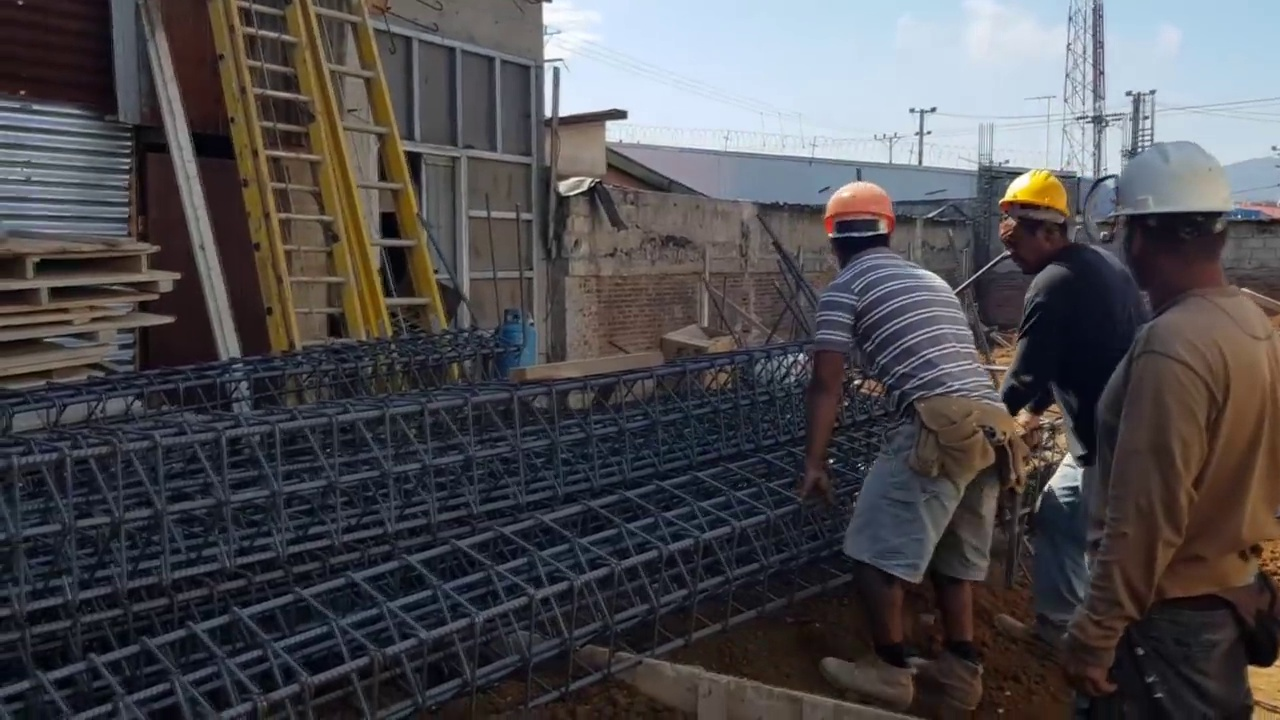helmet: (1114, 138, 1245, 221), (825, 183, 902, 235), (1003, 174, 1081, 225)
helmet-on: (1112, 138, 1248, 312), (1005, 174, 1080, 269), (826, 189, 902, 274)
person: (1069, 146, 1280, 719), (785, 185, 1022, 689), (998, 167, 1147, 650)
